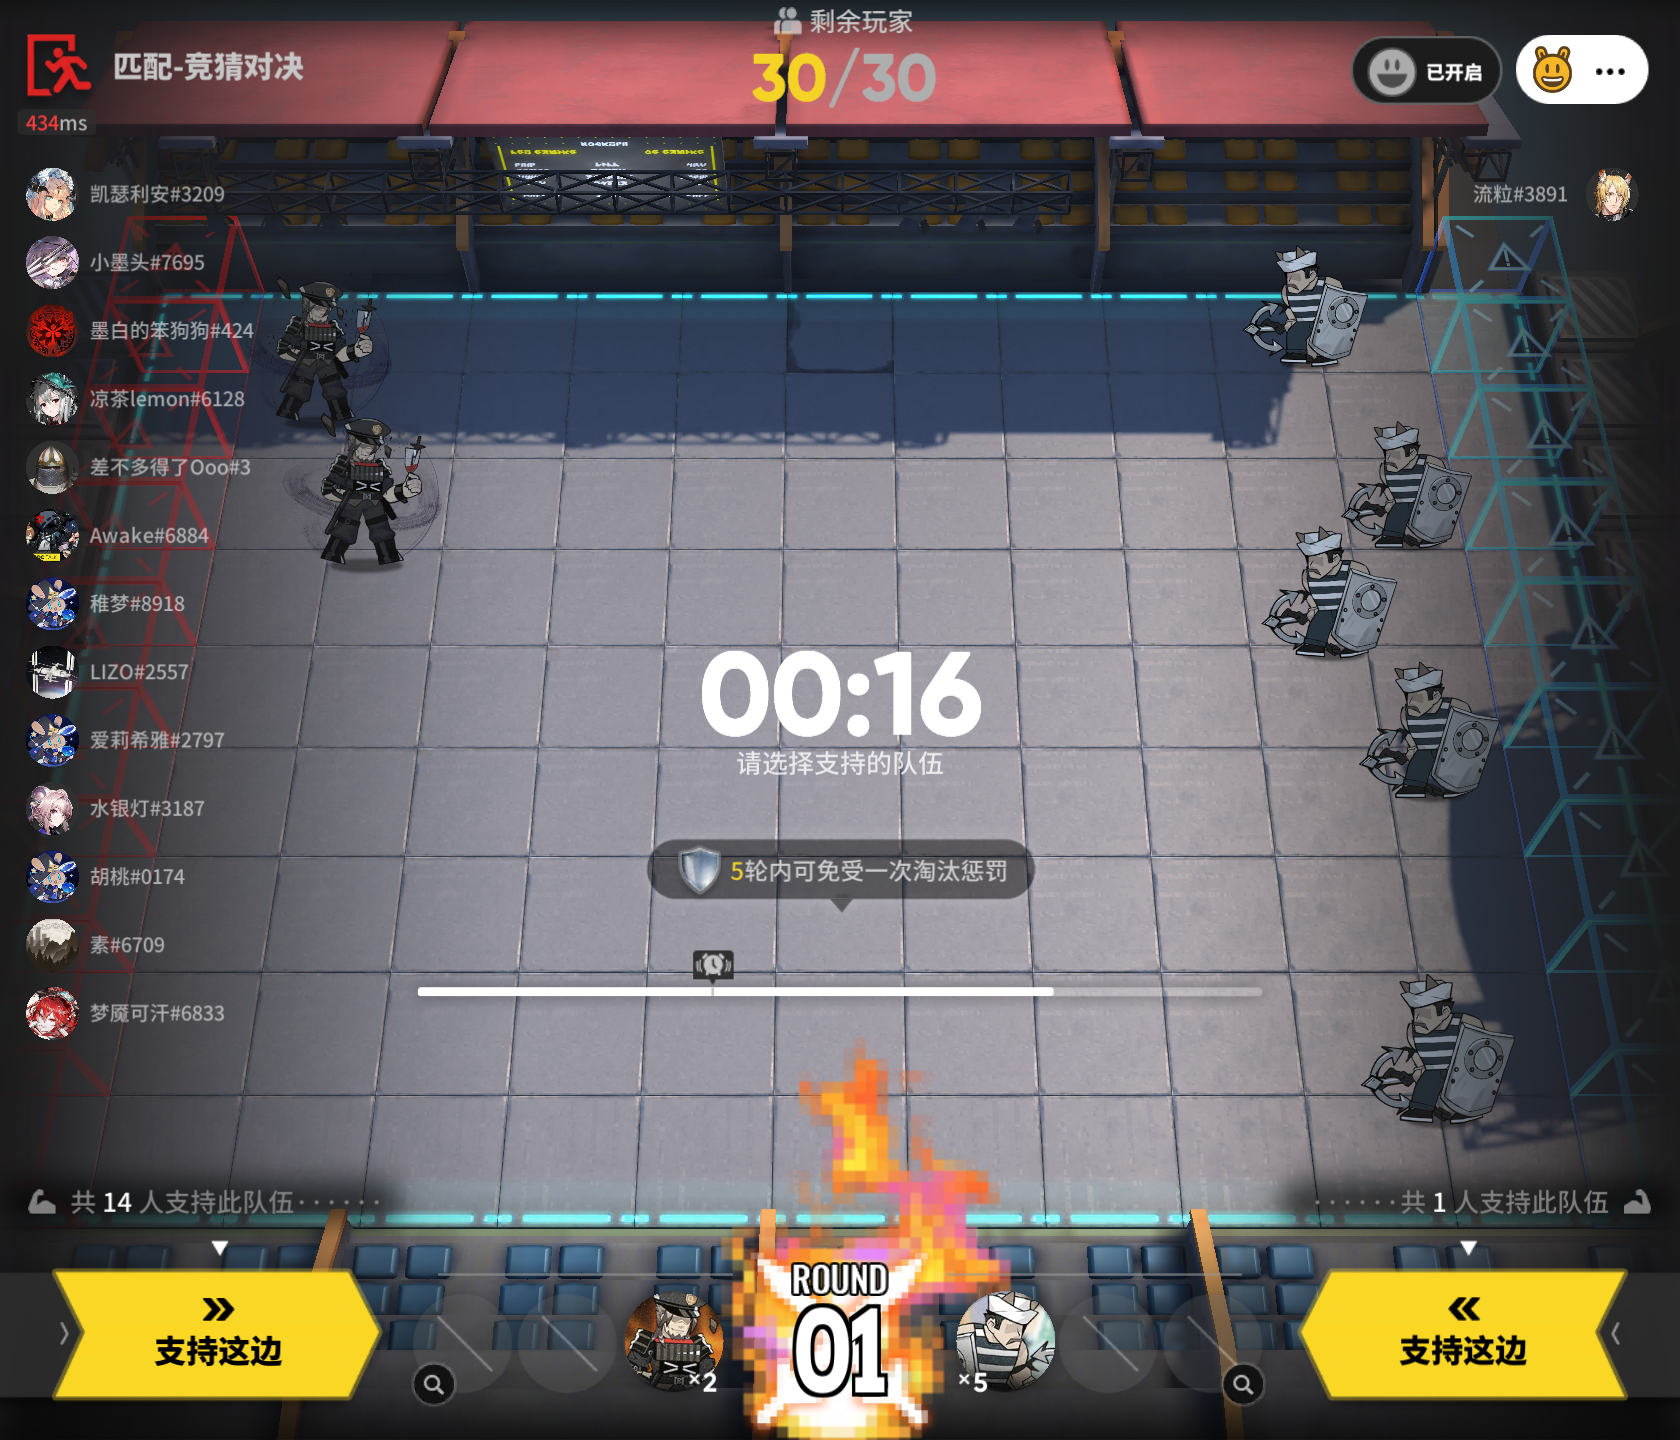杰斯顿·威廉姆斯: (313, 416, 447, 574), (270, 277, 381, 433), (630, 1286, 730, 1394)
过气水手: (1357, 967, 1520, 1141), (1360, 644, 1511, 811), (1266, 514, 1406, 663), (1341, 411, 1476, 556), (1244, 239, 1379, 371), (957, 1289, 1061, 1399)
